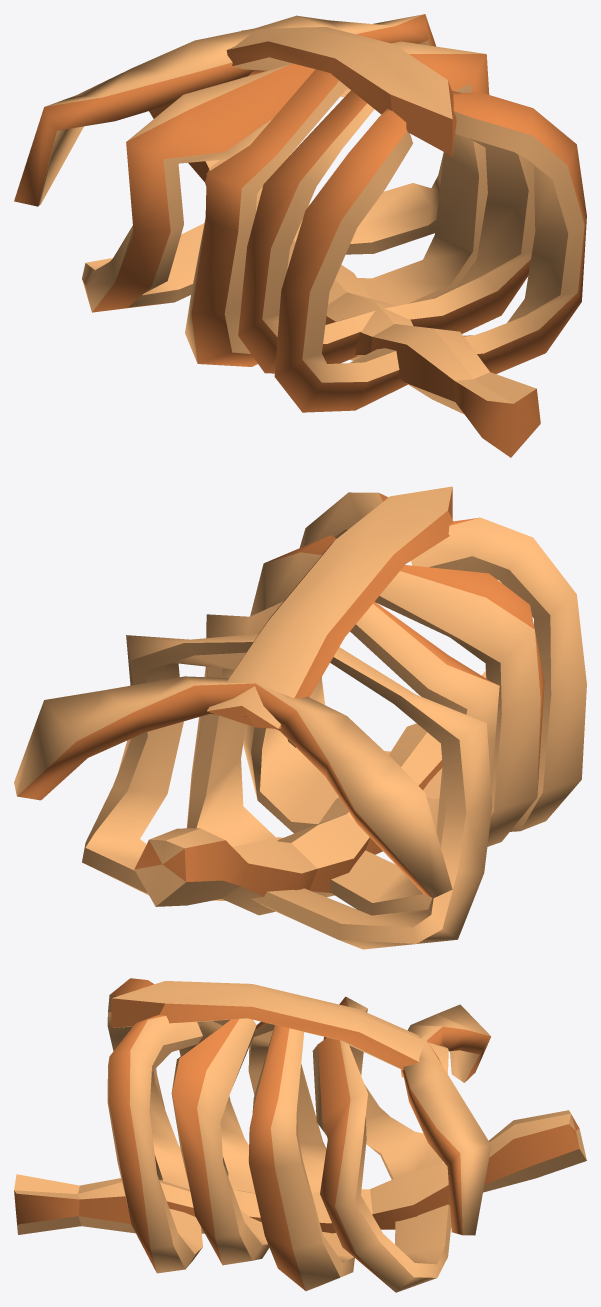
File: Ribs.fbx
3 renders of one model, top to bottom at view 1: azimuth 30°, elevation 25°; view 2: azimuth 150°, elevation 25°; view 3: azimuth 270°, elevation 25°, orthographic. The views are drawn at different scales.
Visible parts, largest first — view 1: Ribs; view 2: Ribs; view 3: Ribs.
Part boxes in pixels (x1,y1,x2,y2): Ribs: [14, 14, 586, 457]; Ribs: [14, 486, 586, 949]; Ribs: [14, 978, 586, 1292].
Bounding box in the file's own units: 0.3744 × 0.274 × 0.529.
